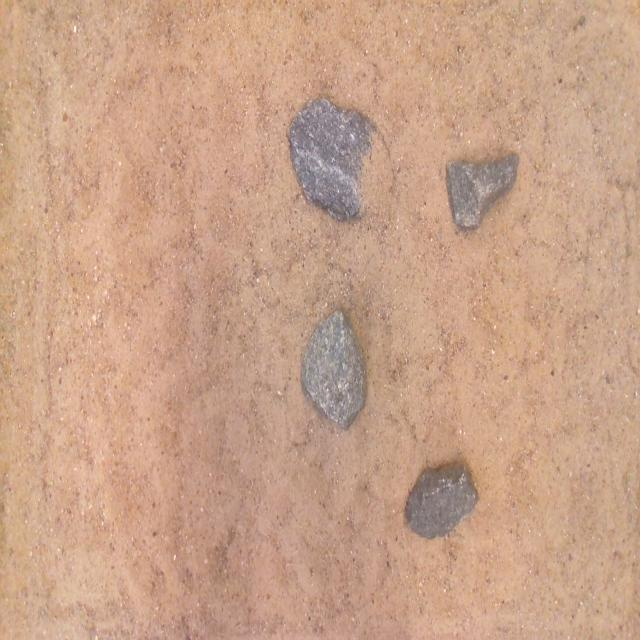rock: (289, 100, 375, 219), (301, 311, 366, 428), (446, 153, 519, 229), (406, 464, 478, 538)
